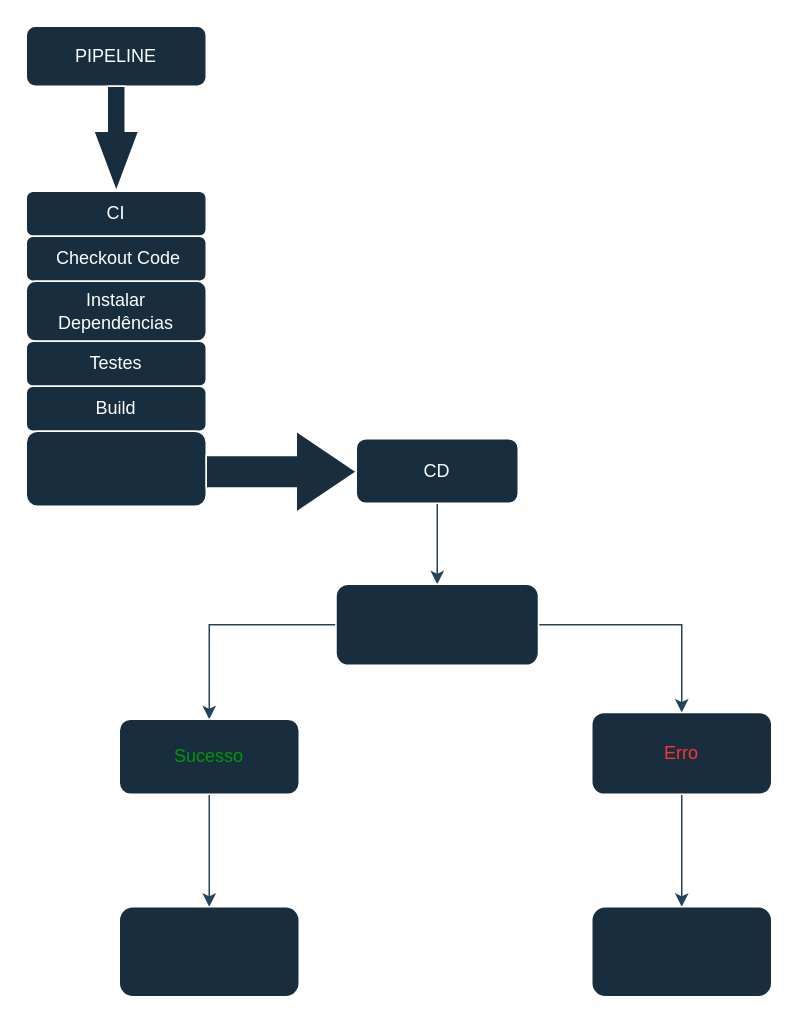
This 798x1023 diagram has some shape labels left out. The shapes that lost their labels are listed below. From the top down, each one's centre as x and y in pixels, then its label:
(x=115, y=468): Armazenar Artefato
(x=436, y=624): Deploy
(x=208, y=951): Atualiza a release após o build
(x=681, y=951): Enviado notificação ao email cadastrado
